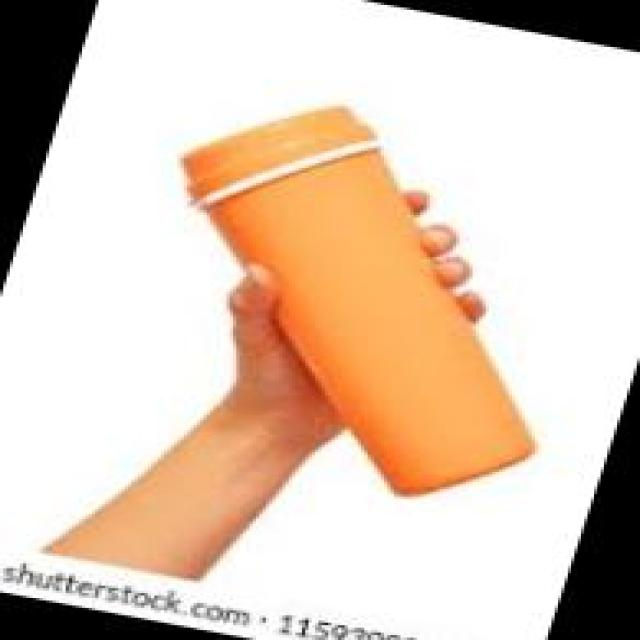bottle: (89, 76, 634, 516)
